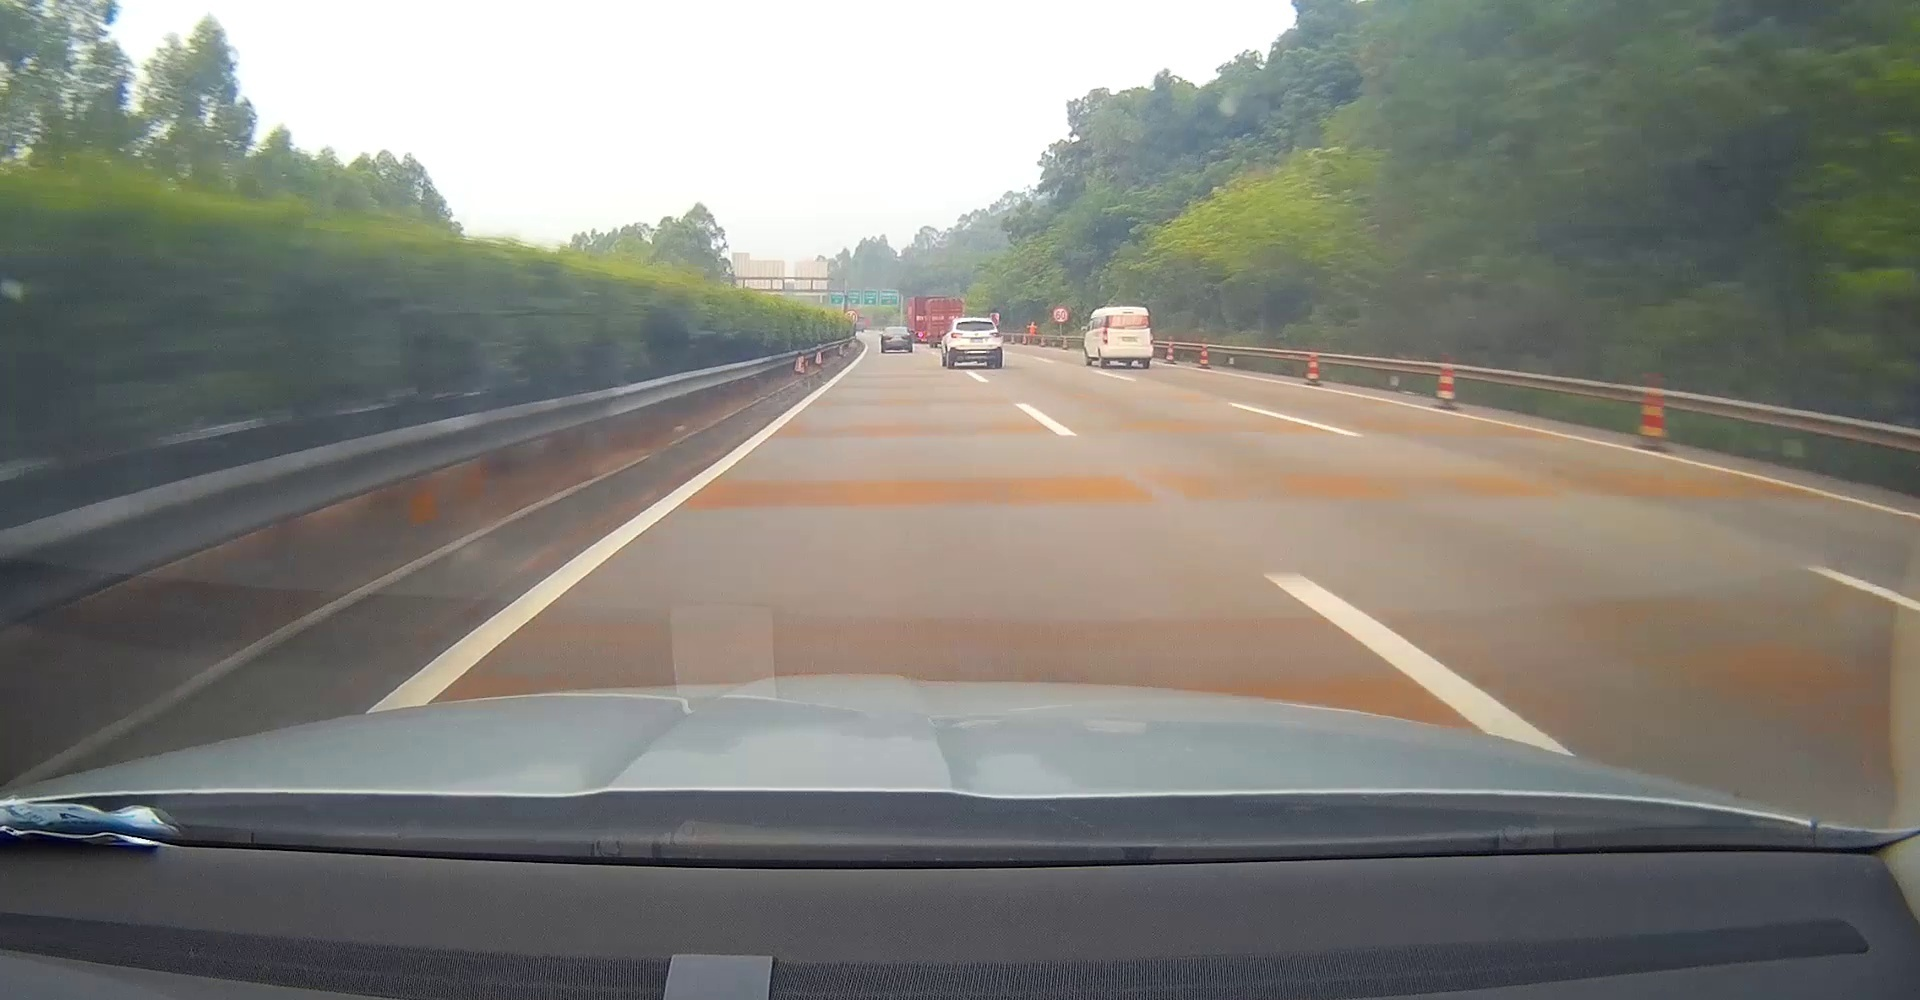L_light: (1103, 327, 1109, 344), (951, 332, 963, 338), (883, 335, 891, 340)
R_light: (989, 332, 1001, 338), (1149, 332, 1153, 345), (902, 334, 910, 339)
T_light: (1123, 311, 1133, 313), (971, 320, 980, 322)
day-brake: (1100, 306, 1154, 368)
day-no: (949, 317, 1003, 368), (880, 326, 912, 354)
